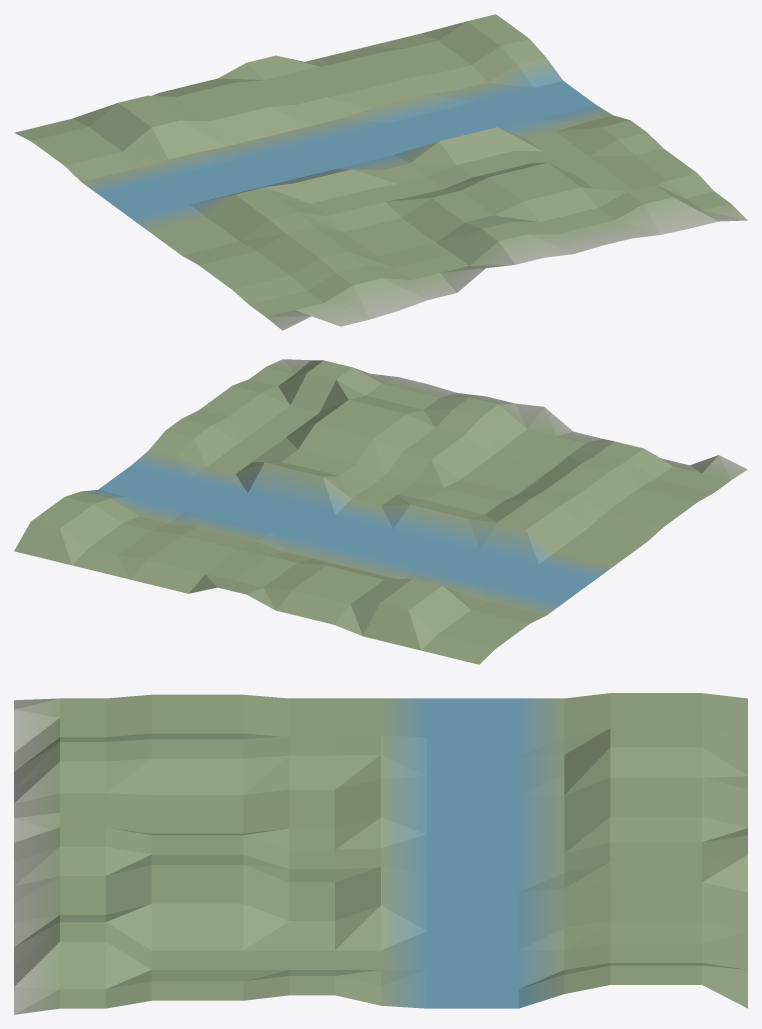
3 views of the same model, one above another, from view 1: azimuth 30°, elevation 25°; view 2: azimuth 150°, elevation 25°; view 3: azimuth 270°, elevation 25° (orthographic). The views are drawn at different scales.
Bounding box in the file's own units: 32 × 2.13 × 32.
